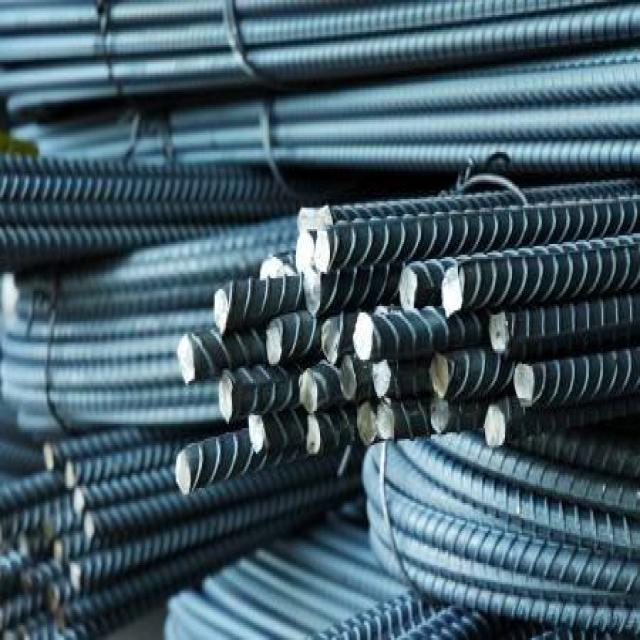Rebar: (399, 264, 429, 313), (351, 309, 378, 362), (175, 331, 197, 388), (319, 313, 343, 363), (432, 352, 457, 397), (445, 266, 467, 317), (356, 400, 379, 446), (483, 399, 506, 444), (311, 223, 332, 272), (178, 455, 204, 494), (490, 311, 513, 354), (513, 360, 536, 402), (300, 371, 323, 412), (371, 354, 394, 395), (340, 355, 360, 401), (304, 269, 323, 317), (265, 321, 285, 366), (296, 227, 314, 277), (305, 414, 323, 463), (377, 400, 398, 442), (428, 400, 451, 438), (220, 374, 238, 422), (215, 287, 232, 334), (260, 255, 281, 291), (248, 415, 267, 450), (298, 204, 314, 244), (316, 202, 332, 238), (41, 442, 57, 471), (279, 259, 297, 283), (377, 300, 391, 329), (70, 563, 85, 590), (72, 486, 88, 511), (63, 462, 77, 490), (44, 511, 56, 541), (55, 602, 68, 629), (86, 513, 98, 541), (20, 537, 34, 561), (54, 538, 66, 565), (49, 584, 60, 613), (22, 570, 33, 591)
